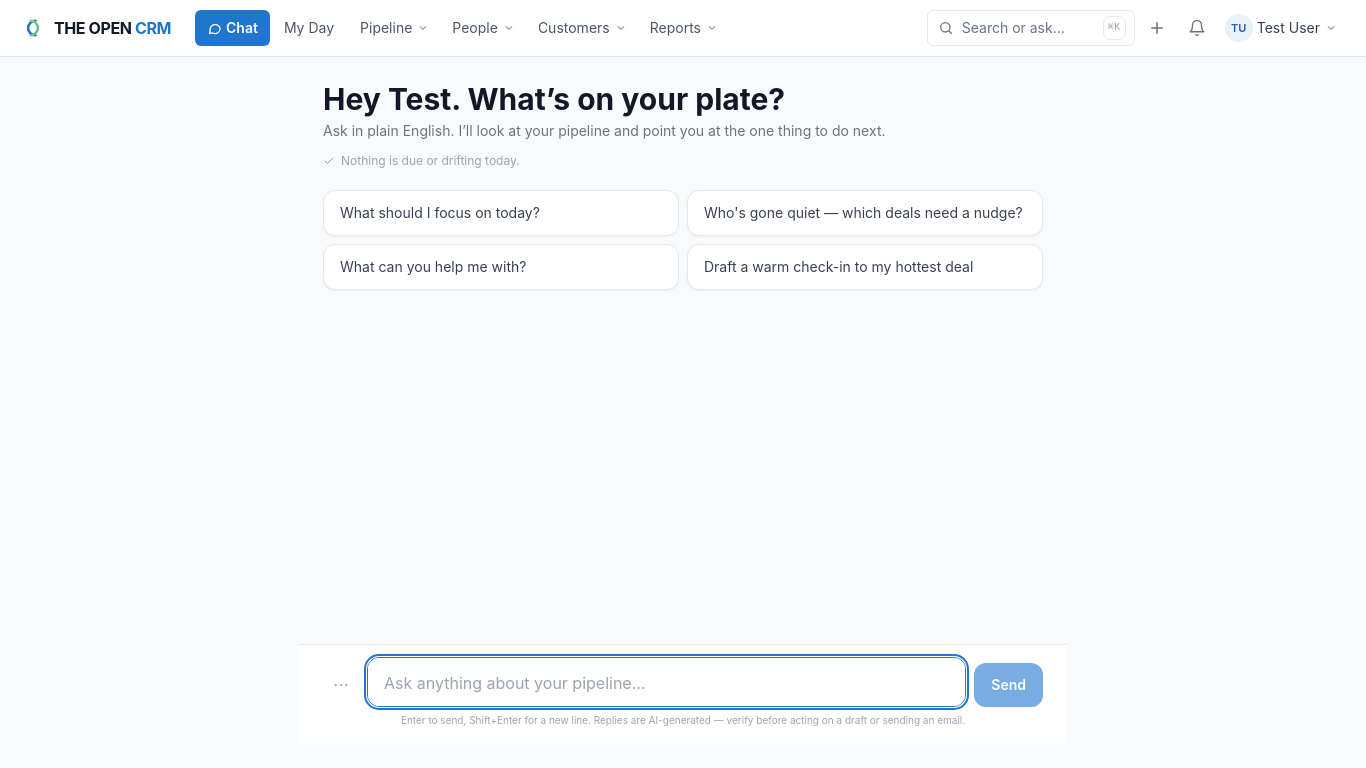
Chat streaming › Stop aborts the stream and keeps the partial text, marked as stopped
Step 1. Type "hello" into the text box named "Message" → (667, 682), box top-left (367, 657), bottom-right (966, 707)
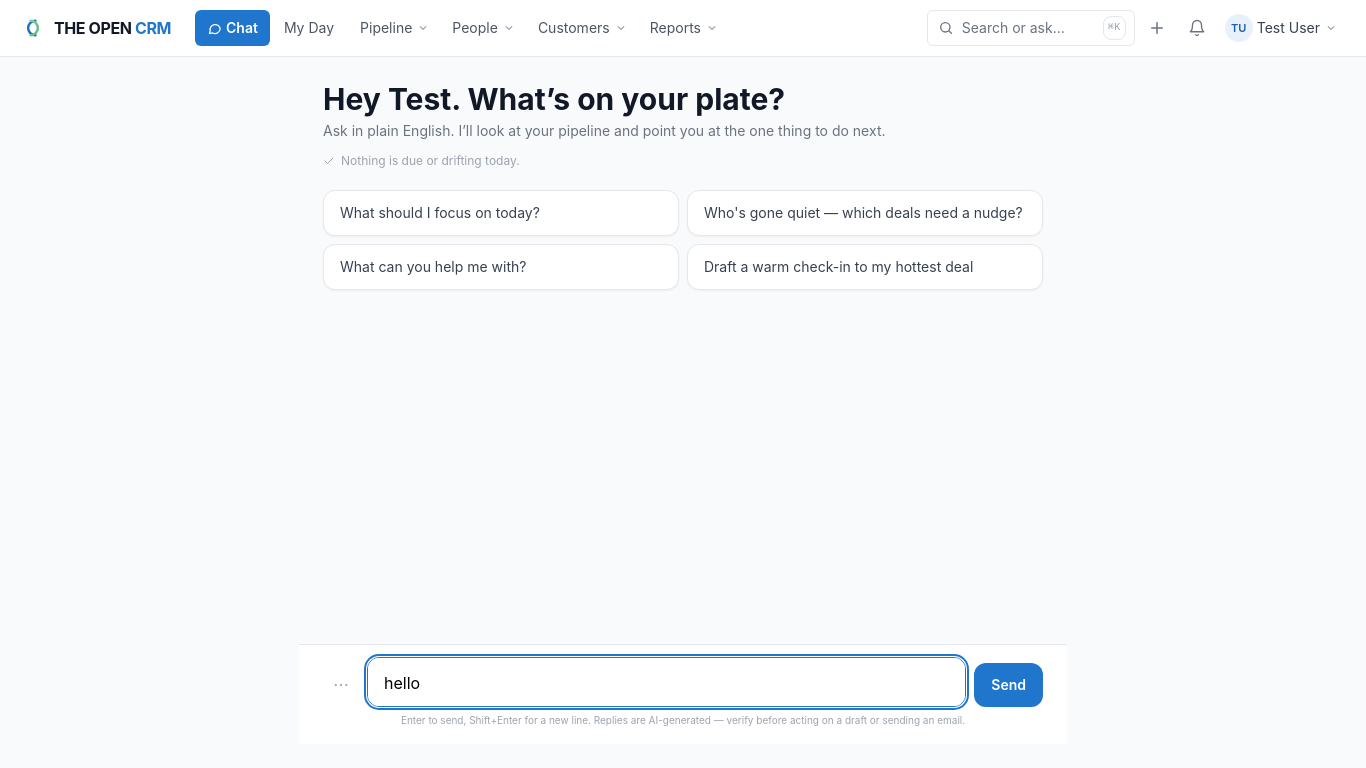
Step 2. Press Enter in the text box named "Message", box top-left (367, 657), bottom-right (966, 707)
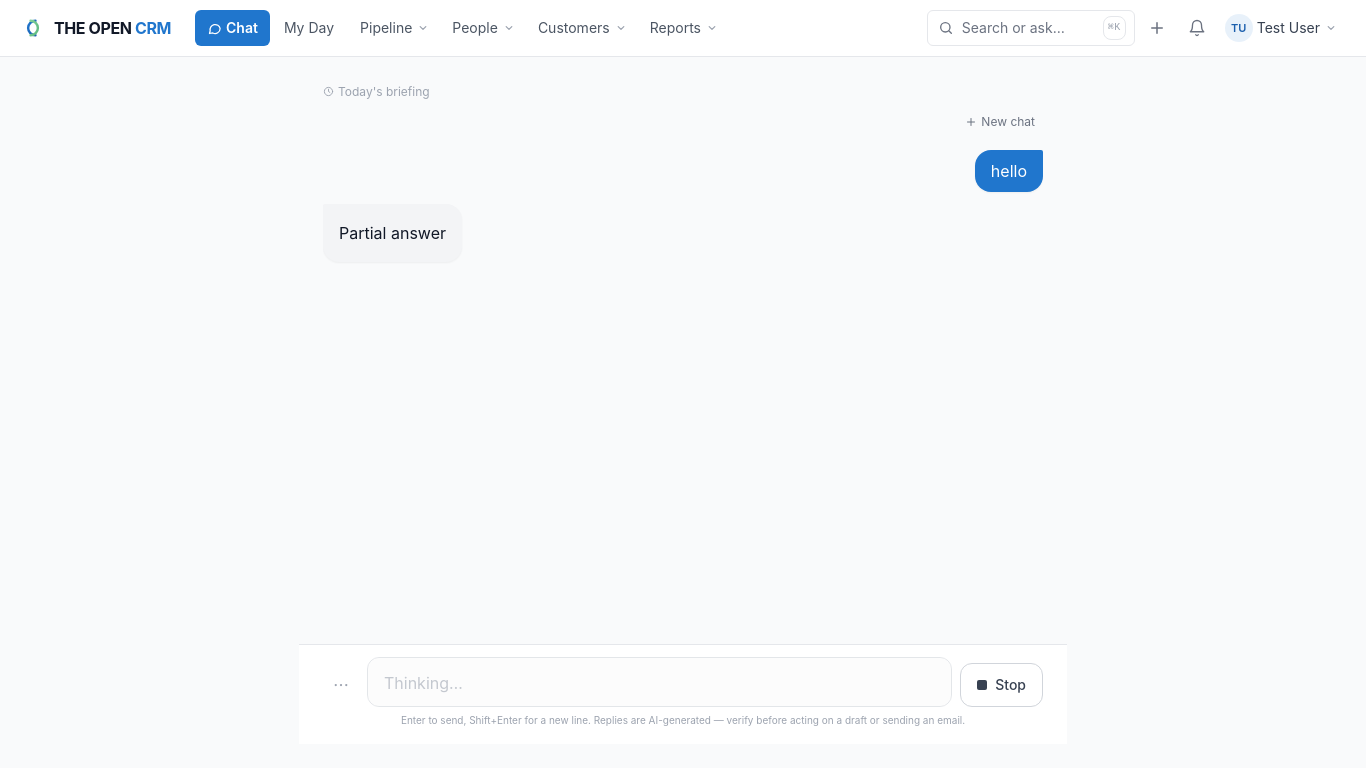
Result: the text "Partial answer" is shown at top-left (339, 220), bottom-right (446, 246)
Step 3. Click the button with aria-label "stop generating" → click(1002, 685), box top-left (960, 663), bottom-right (1043, 707)
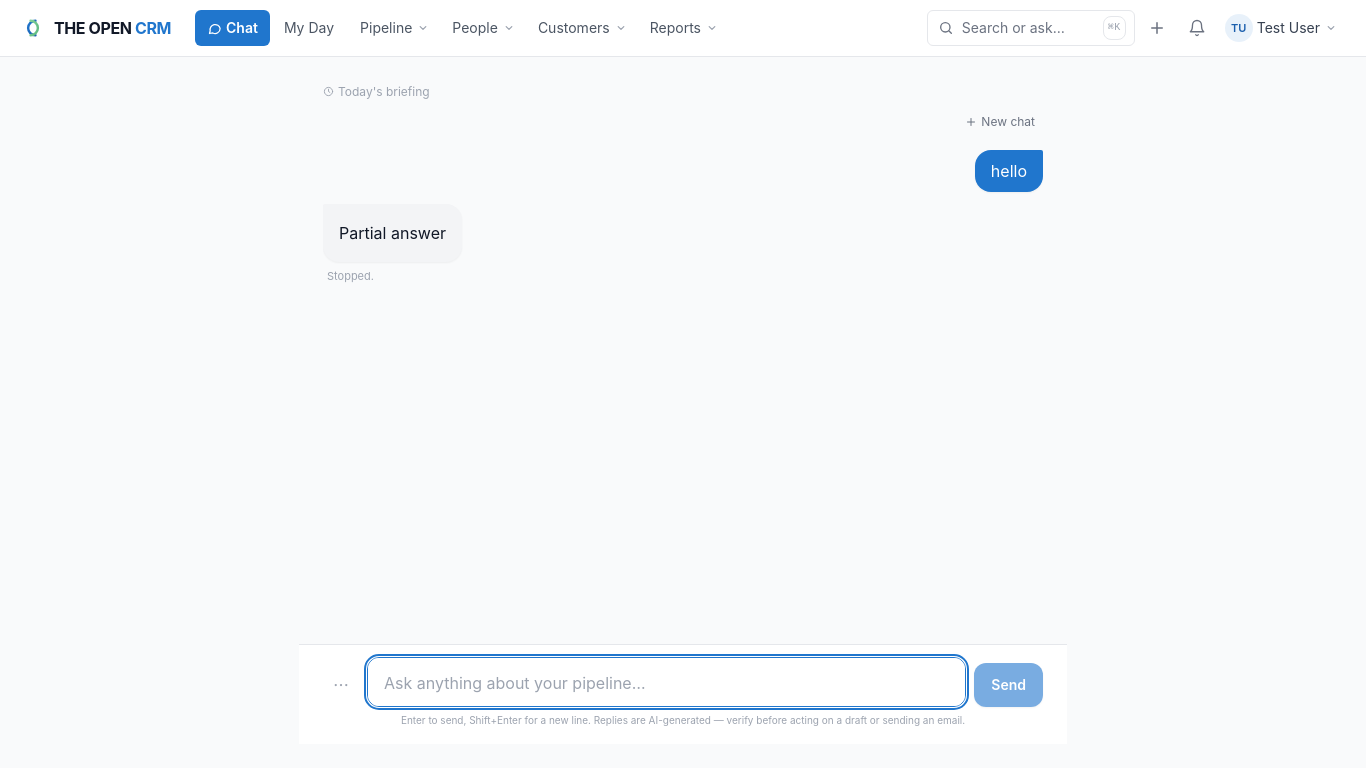
Result: the text "Partial answer" is shown at top-left (339, 220), bottom-right (446, 246)
Result: the text "Stopped." is shown at top-left (327, 268), bottom-right (374, 282)
Result: the button with aria-label "send message" is shown at top-left (974, 663), bottom-right (1043, 707)
